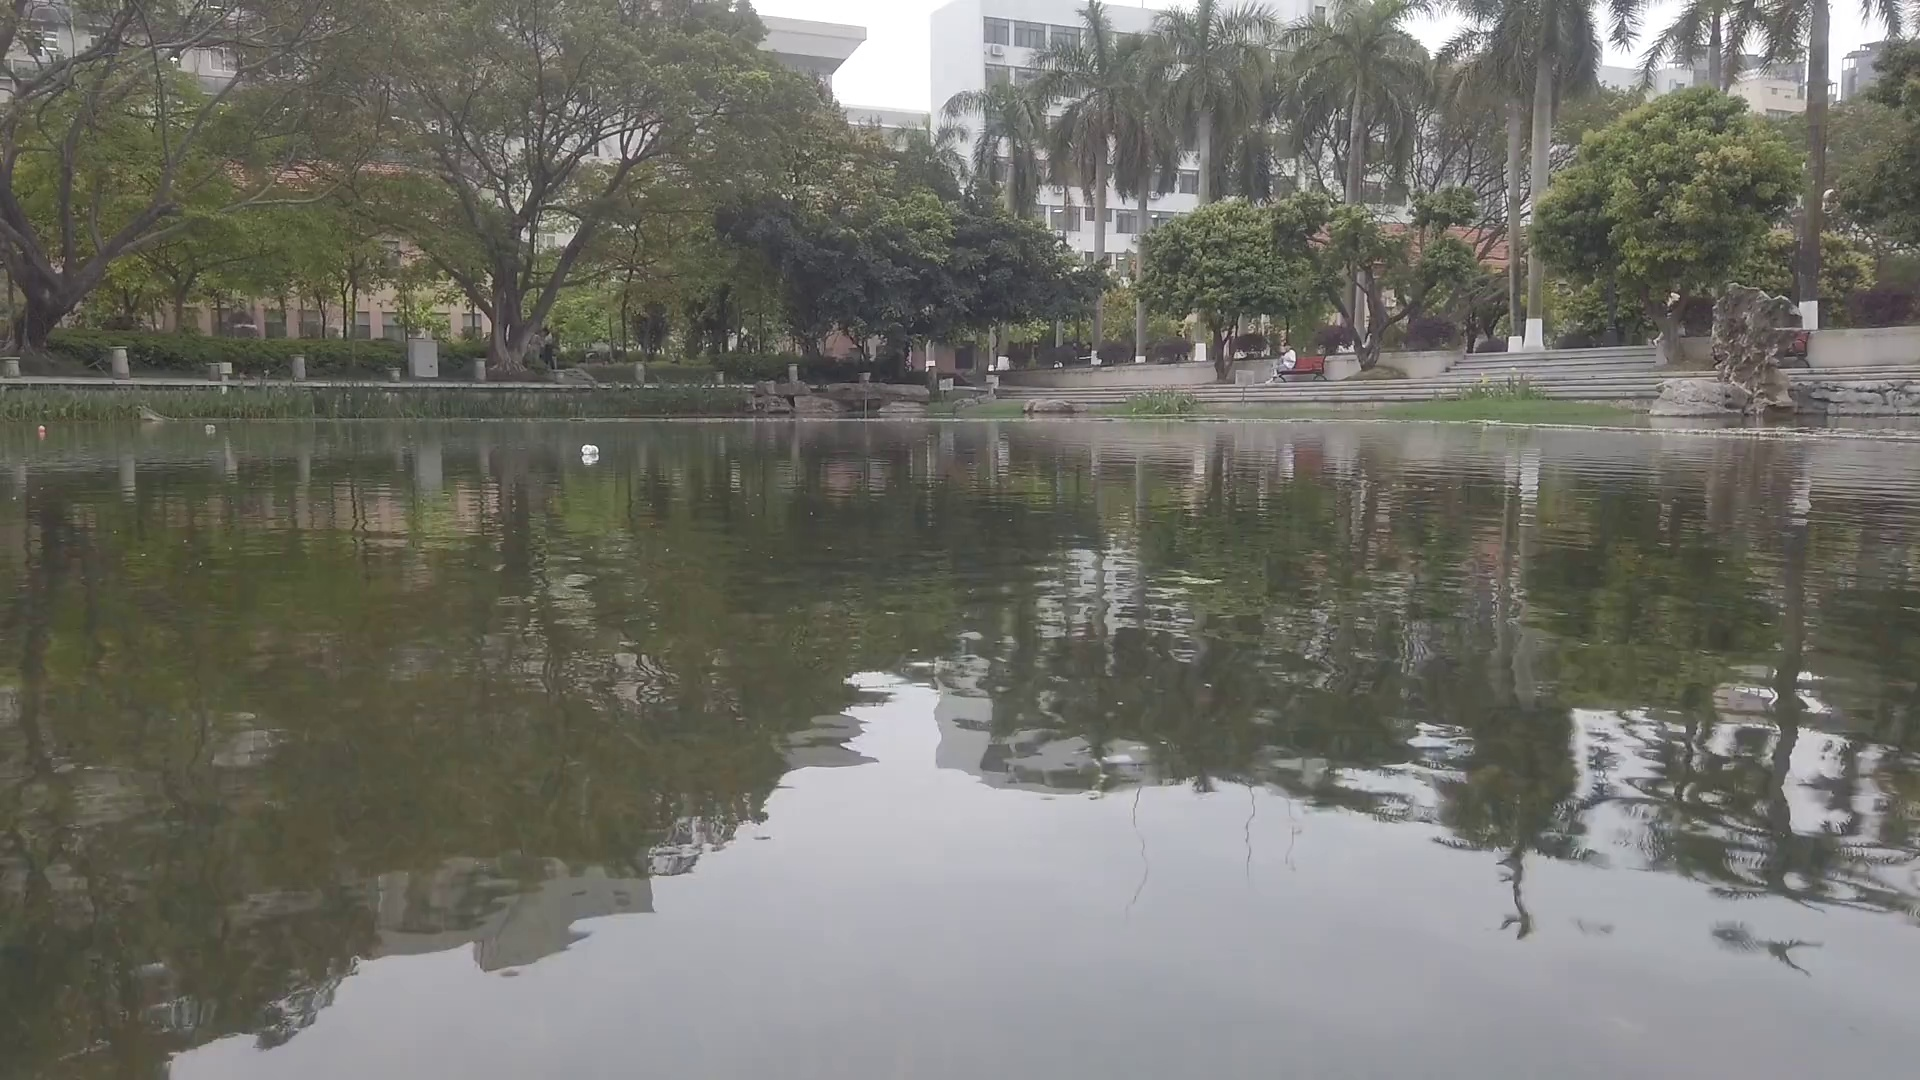bottle: (582, 444, 601, 458), (203, 423, 216, 435), (38, 425, 46, 436)
